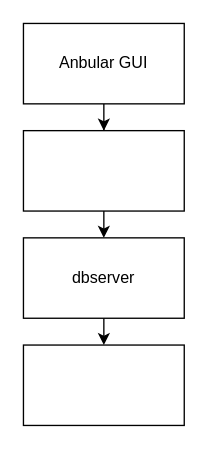
The diagram is 208 pixels wide and 449 high, and some of its shapes have lost their labels. Each missing label, with the centre of its shape:
billingItem-service: the point at 103,170
mongoDb: the point at 103,384
